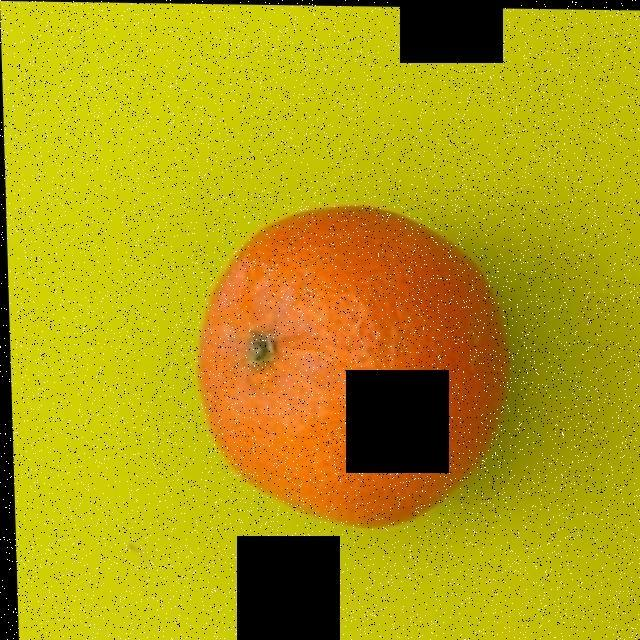mandarine: (199, 206, 504, 521)
